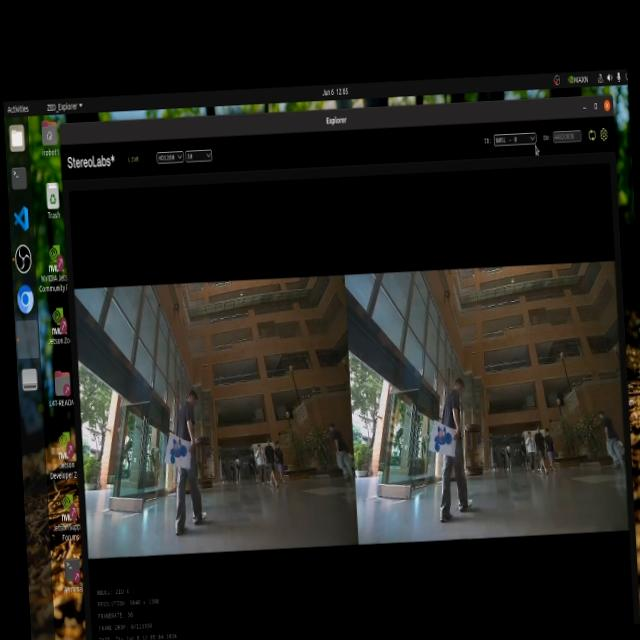blue: (162, 434, 187, 462), (434, 429, 459, 448)
